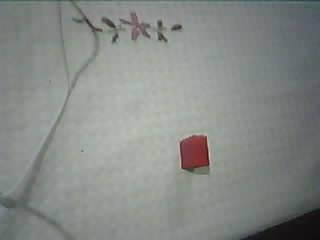lego: (179, 134, 210, 170)
